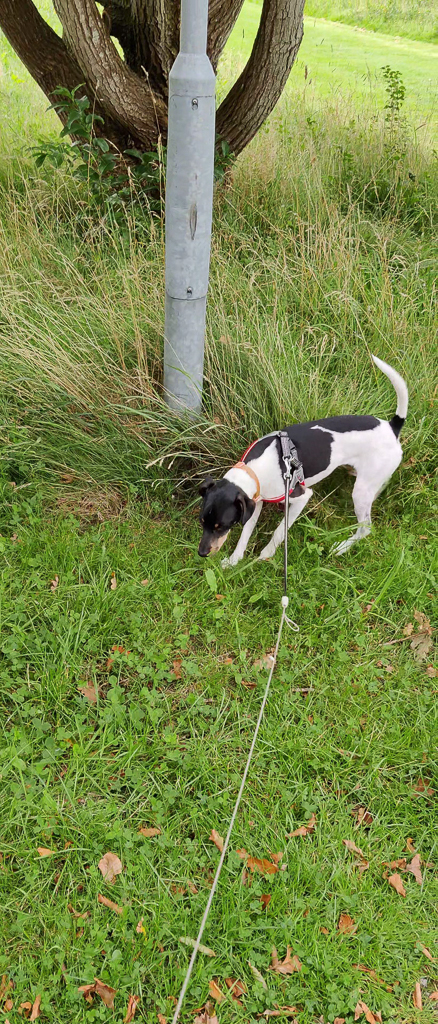Dog: (182, 345, 431, 586)
